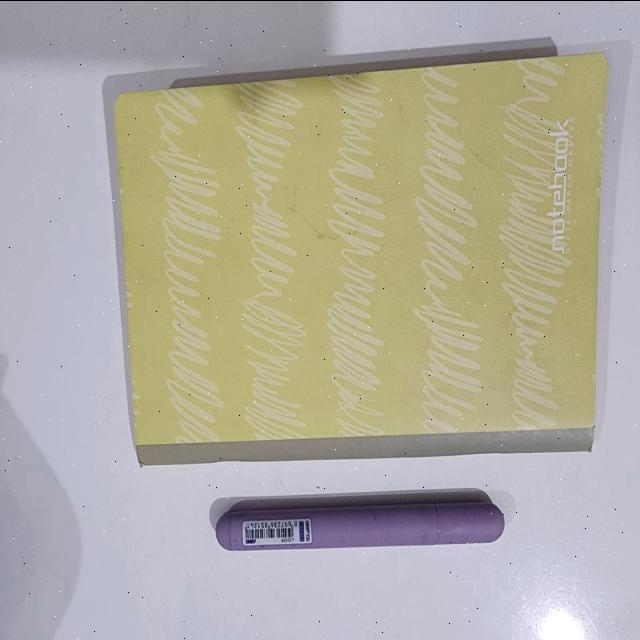defter: (114, 51, 607, 464)
kalem2: (216, 499, 505, 550)
